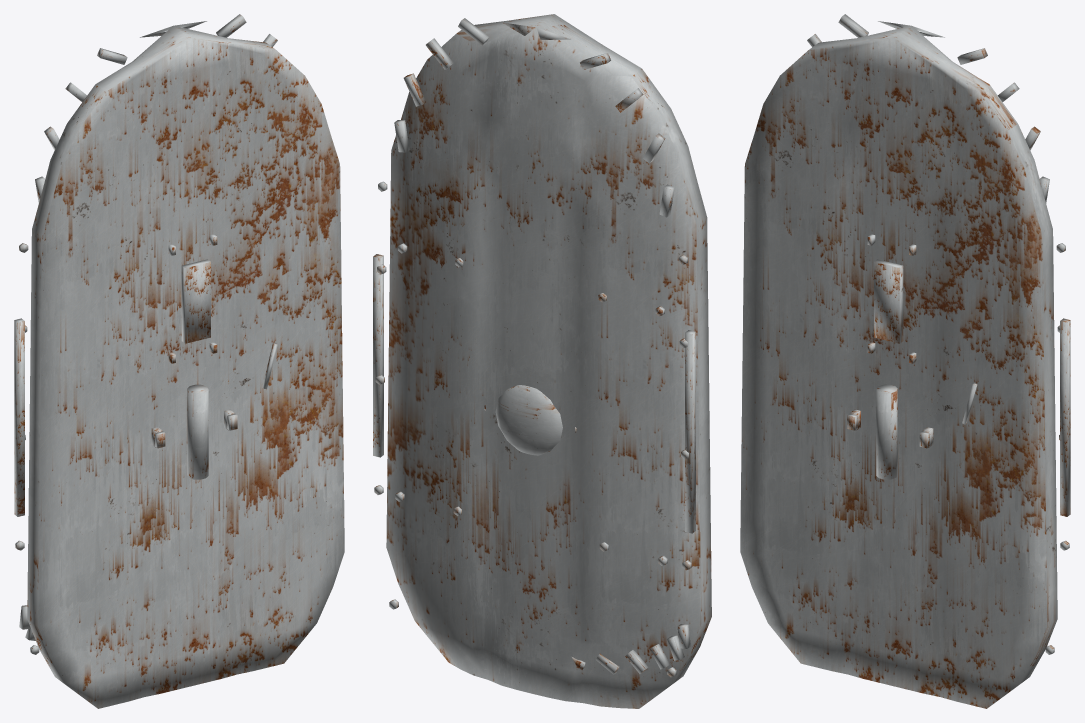
The model's file is tower_shield.glb.
3 views of the same model, side by side, from view 1: azimuth 30°, elevation 25°; view 2: azimuth 150°, elevation 25°; view 3: azimuth 330°, elevation 25° (orthographic). The views are drawn at different scales.
Visible parts, largest first — view 1: tower_shield; view 2: tower_shield; view 3: tower_shield.
Part boxes in pixels (<box>): tower_shield: <box>14,14,344,708</box>; tower_shield: <box>373,14,711,708</box>; tower_shield: <box>740,14,1070,708</box>.
Size of the model in its own units: 0.604 by 1.2 by 0.1431.
2 materials, 2 textured.
